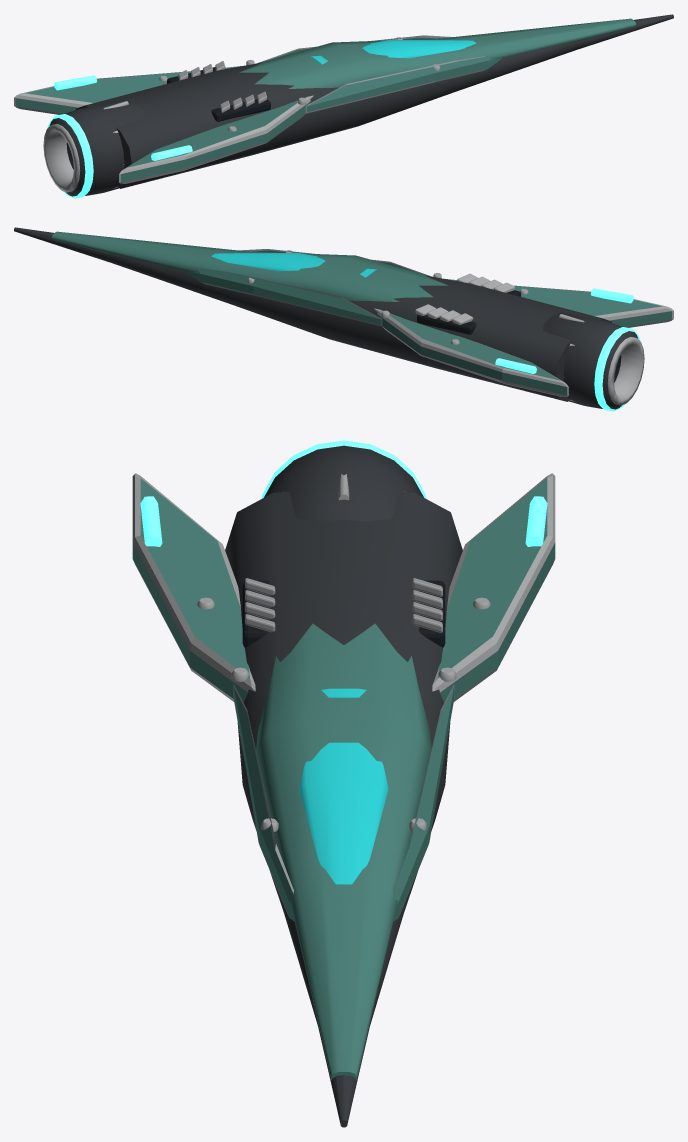
Rendered from Scout.glb.
The picture shows the model from 3 angles, top to bottom: view 1: azimuth 30°, elevation 25°; view 2: azimuth 150°, elevation 25°; view 3: azimuth 270°, elevation 25°; orthographic projection. The views are drawn at different scales.
Parts seen in each view (by area): view 1: Scout_Shell; view 2: Scout_Shell; view 3: Scout_Shell.
Part boxes in pixels (x1,y1,x2,y2): Scout_Shell: (14,14,673,198); Scout_Shell: (14,227,673,411); Scout_Shell: (132,440,555,1127).
Size of the model in its own units: 3.21 by 0.4094 by 0.96.
